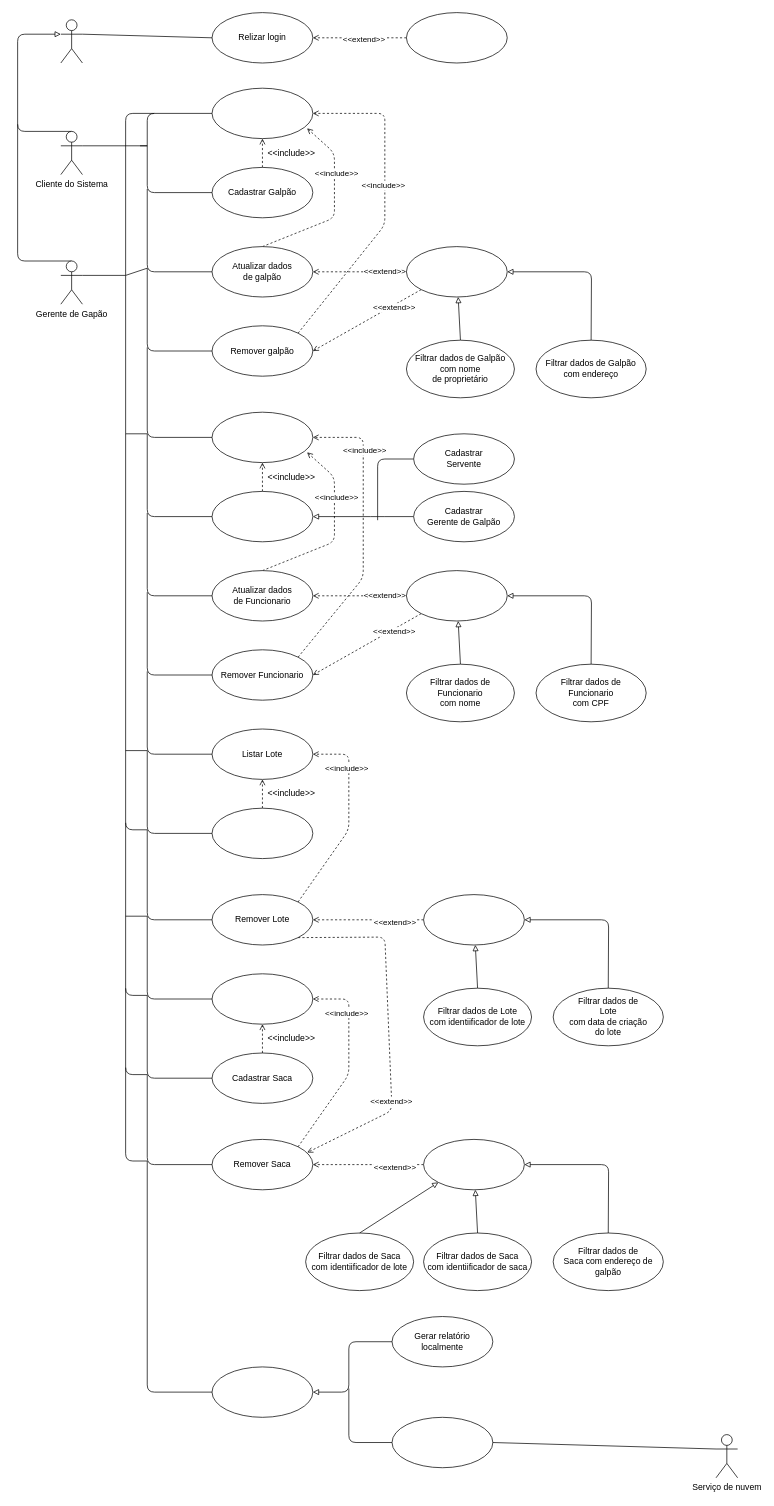
This 774x1506 diagram has some shape labels left out. Each missing label, with the centre of its shape:
Cadastrar Funcionario: the point at 262,516
Cadastrar Lote: the point at 262,833
Exibir mensagem de erro de login: the point at 456,37
Filtrar dados de Funcionario: the point at 456,595
Filtrar dados de Galpão: the point at 456,271
Filtrar dados de Lote: the point at 473,919
Filtrar dados de Saca: the point at 473,1164
Gerar relatório: the point at 262,1391
Gerar relatório em nuvem: the point at 442,1442
Listar Funcionario: the point at 262,437
Listar Galpão: the point at 262,113
Listar Saca: the point at 262,998
Usuário: the point at 71,41
